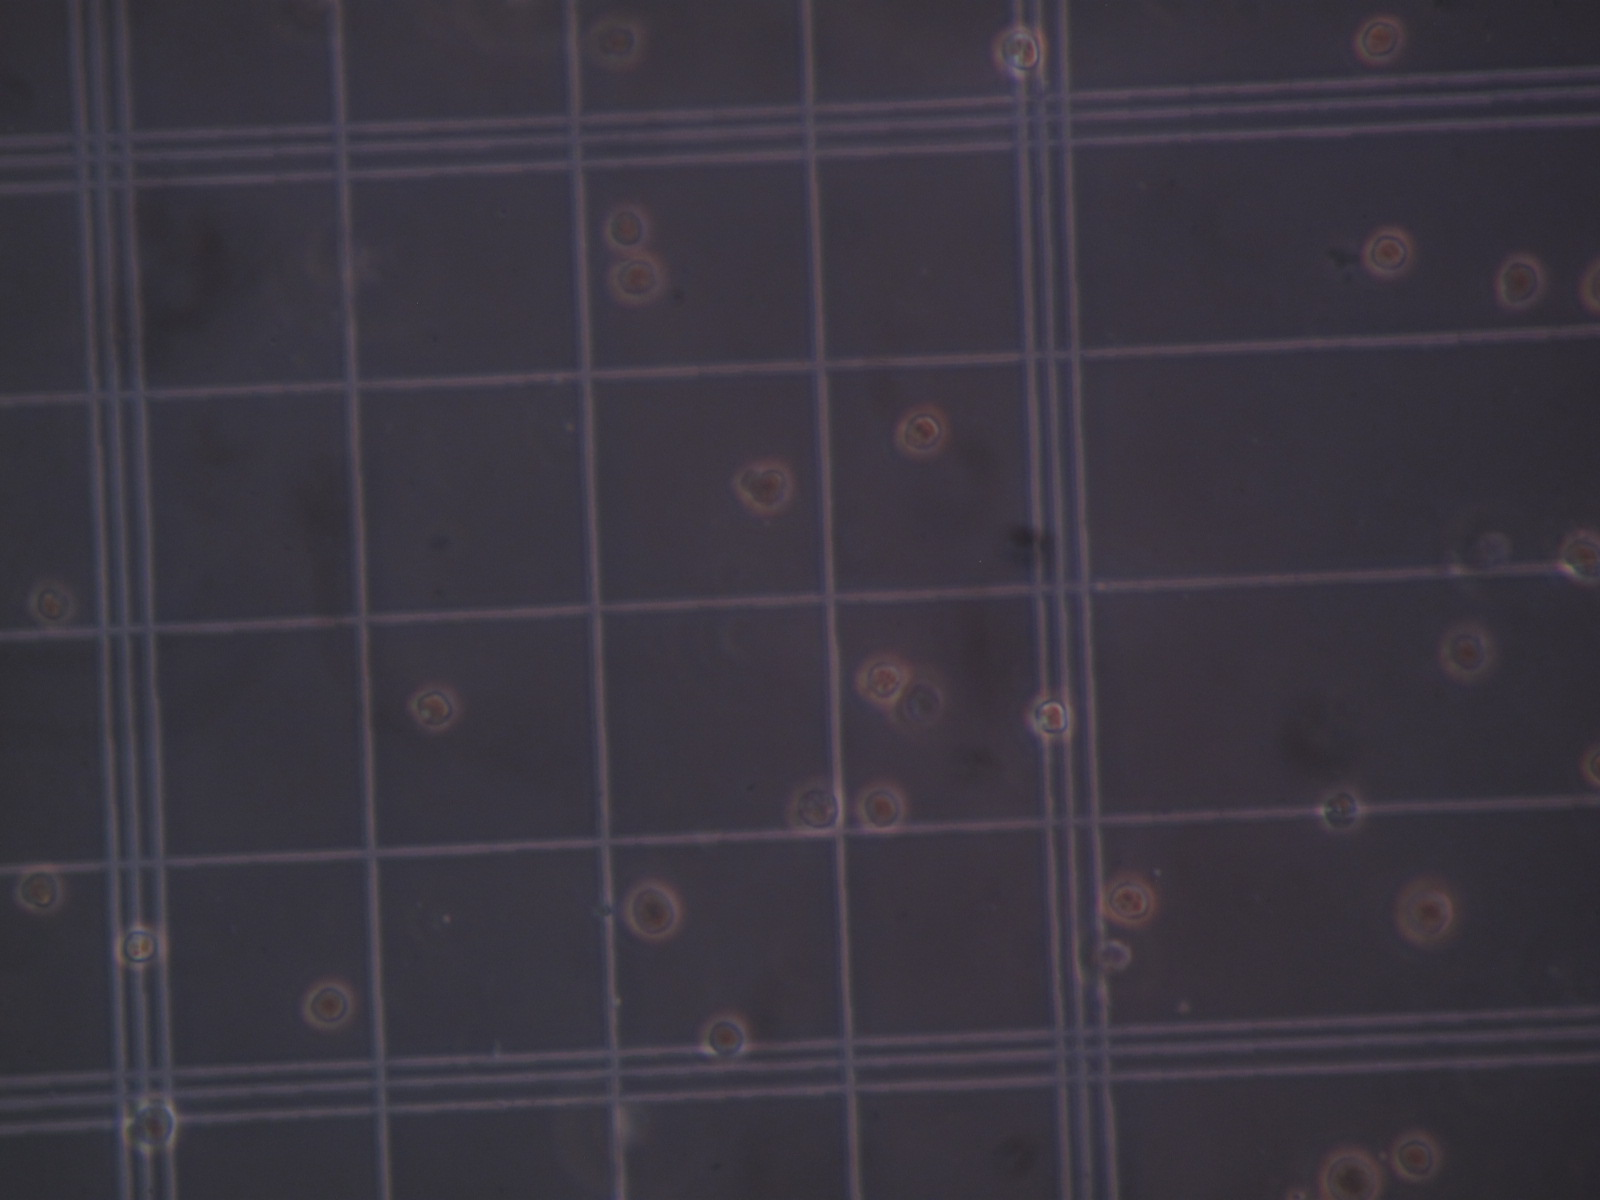hemo: (1393, 875, 1456, 945), (624, 879, 682, 942), (787, 782, 845, 838), (1322, 1146, 1382, 1200), (893, 405, 950, 460), (734, 461, 794, 513), (991, 24, 1047, 78), (1437, 624, 1493, 678), (1100, 874, 1157, 926), (854, 649, 907, 705), (1495, 255, 1545, 313), (1362, 226, 1415, 279), (1352, 13, 1406, 64), (855, 782, 907, 834), (1390, 1129, 1440, 1184), (304, 982, 357, 1032), (609, 255, 663, 304), (603, 200, 653, 255), (408, 683, 460, 734), (590, 16, 643, 66), (111, 924, 166, 971), (699, 1010, 750, 1060), (123, 1103, 178, 1150), (1317, 784, 1364, 834), (26, 579, 76, 626), (1026, 695, 1076, 739), (16, 868, 66, 913), (1556, 532, 1600, 579), (1090, 935, 1133, 971), (1579, 742, 1600, 785)
